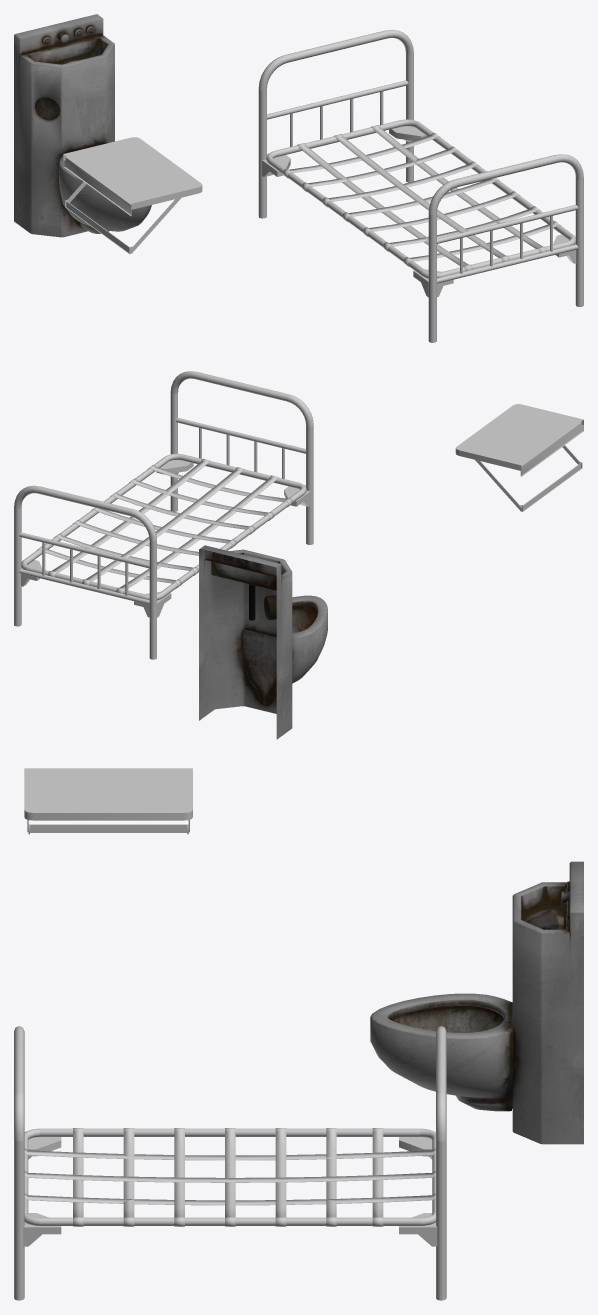
Rendered from SM_Cell_01_Preset_Medium.fbx.
The picture shows the model from 3 angles, top to bottom: view 1: azimuth 30°, elevation 25°; view 2: azimuth 150°, elevation 25°; view 3: azimuth 270°, elevation 25°; orthographic projection. The views are drawn at different scales.
Visible parts, largest first — view 1: SM_Cell_01_Preset_Medium_LOD0; view 2: SM_Cell_01_Preset_Medium_LOD0; view 3: SM_Cell_01_Preset_Medium_LOD0.
Part boxes in pixels (bbox=[...]): SM_Cell_01_Preset_Medium_LOD0: bbox=[14, 14, 583, 342]; SM_Cell_01_Preset_Medium_LOD0: bbox=[14, 371, 583, 739]; SM_Cell_01_Preset_Medium_LOD0: bbox=[14, 768, 583, 1300].
Bounding box in the file's own units: 306 × 270 × 136.
